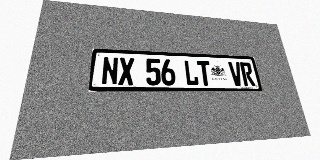5: (146, 58, 161, 85)
6: (160, 59, 176, 85)
L: (184, 60, 199, 86)
N: (101, 57, 119, 85)
R: (240, 62, 256, 86)
T: (197, 60, 212, 86)
V: (228, 62, 244, 86)
X: (118, 57, 134, 85)
